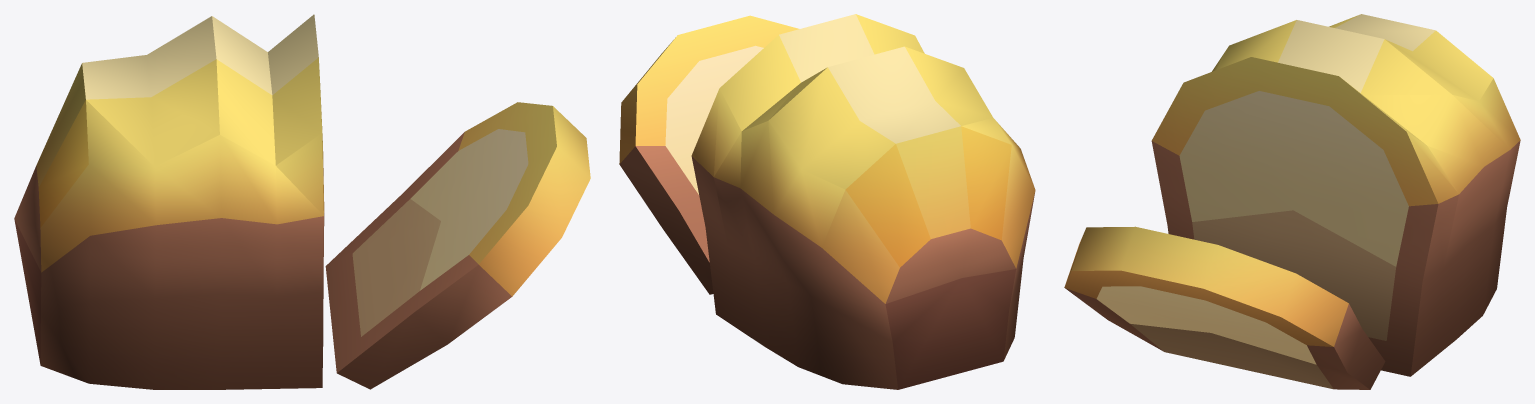
Rendered from food_bread_loaf.glb.
3 views of the same model, side by side, from view 1: azimuth 30°, elevation 25°; view 2: azimuth 150°, elevation 25°; view 3: azimuth 270°, elevation 25° (orthographic). The views are drawn at different scales.
Parts seen in each view (by area): view 1: Item; view 2: Item; view 3: Item.
Boxes of the visible parts, x1,y1,x2,y2 form: Item: (14, 14, 590, 389); Item: (619, 14, 1035, 389); Item: (1064, 14, 1520, 389).
Bounding box in the file's own units: 0.5914 × 0.35 × 0.508.
Materials: 1 (1 with a texture image).
